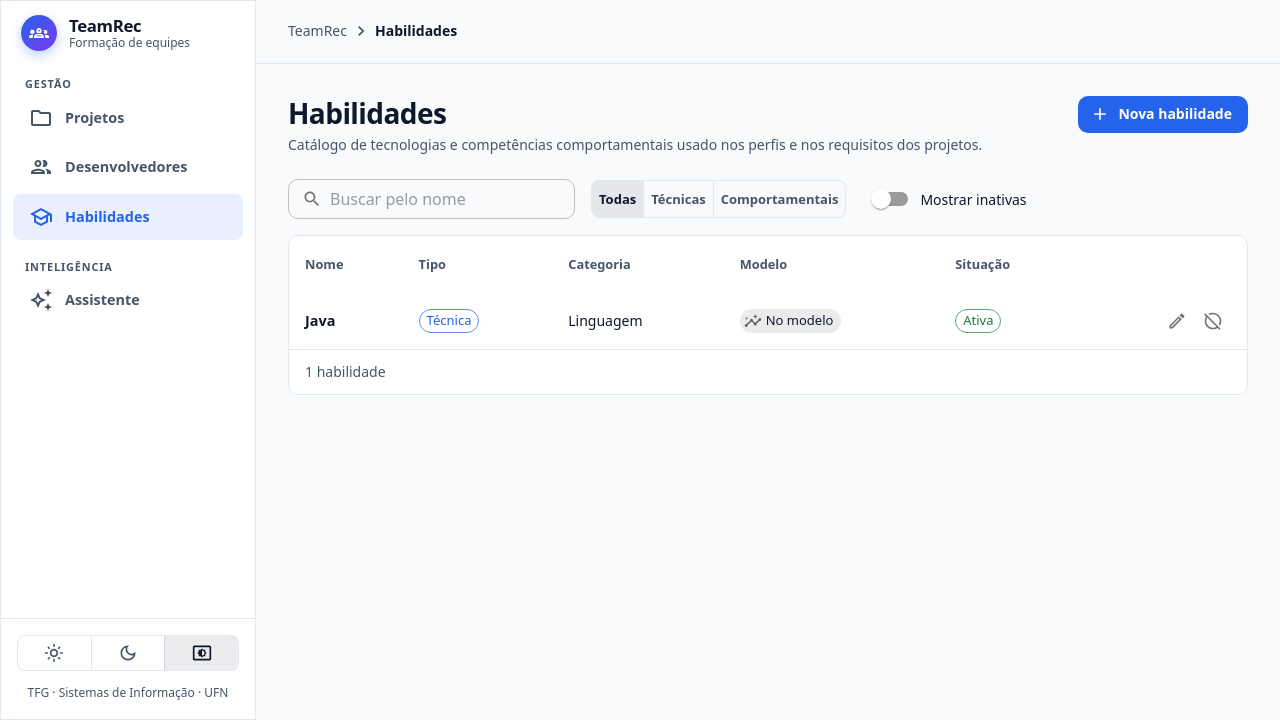
Test: pagina de habilidades › mostra as inativas quando pedido e permite reativar
Click the switch labelled "Mostrar inativas": click(949, 199) [871,189,1027,209]
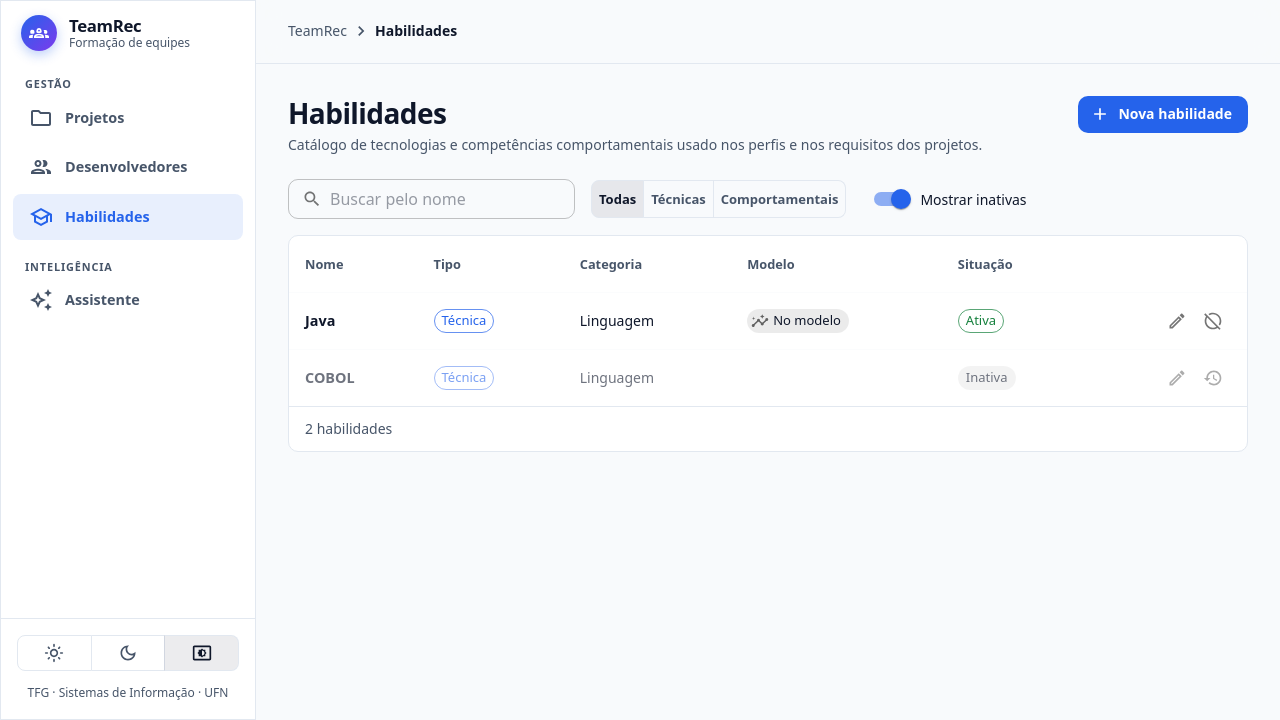
Click the button named "Reativar COBOL": click(1213, 378) [1195,360,1231,396]
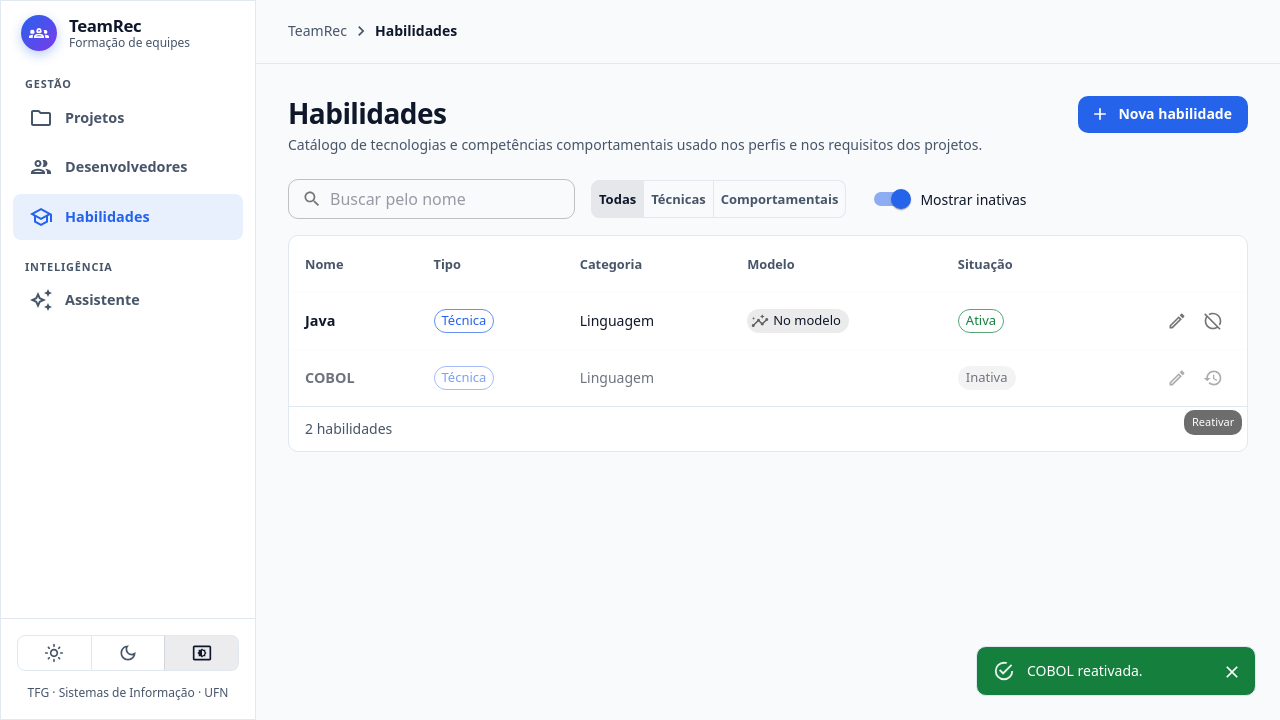
Expected: the text "COBOL reativada." is shown, [1027,661,1143,680]
